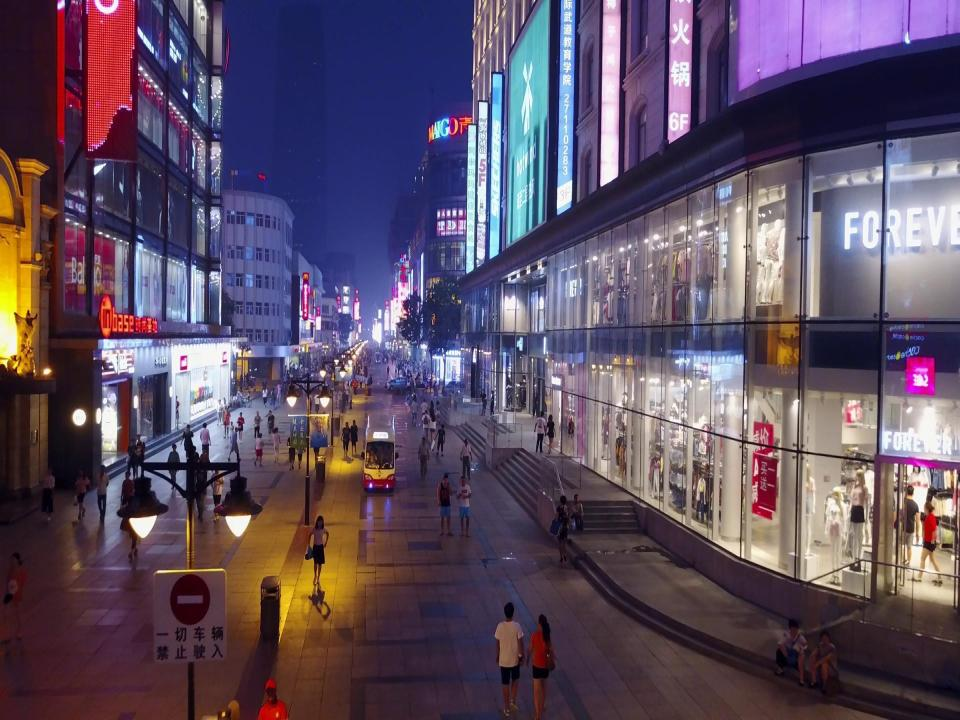car: (384, 376, 420, 391)
